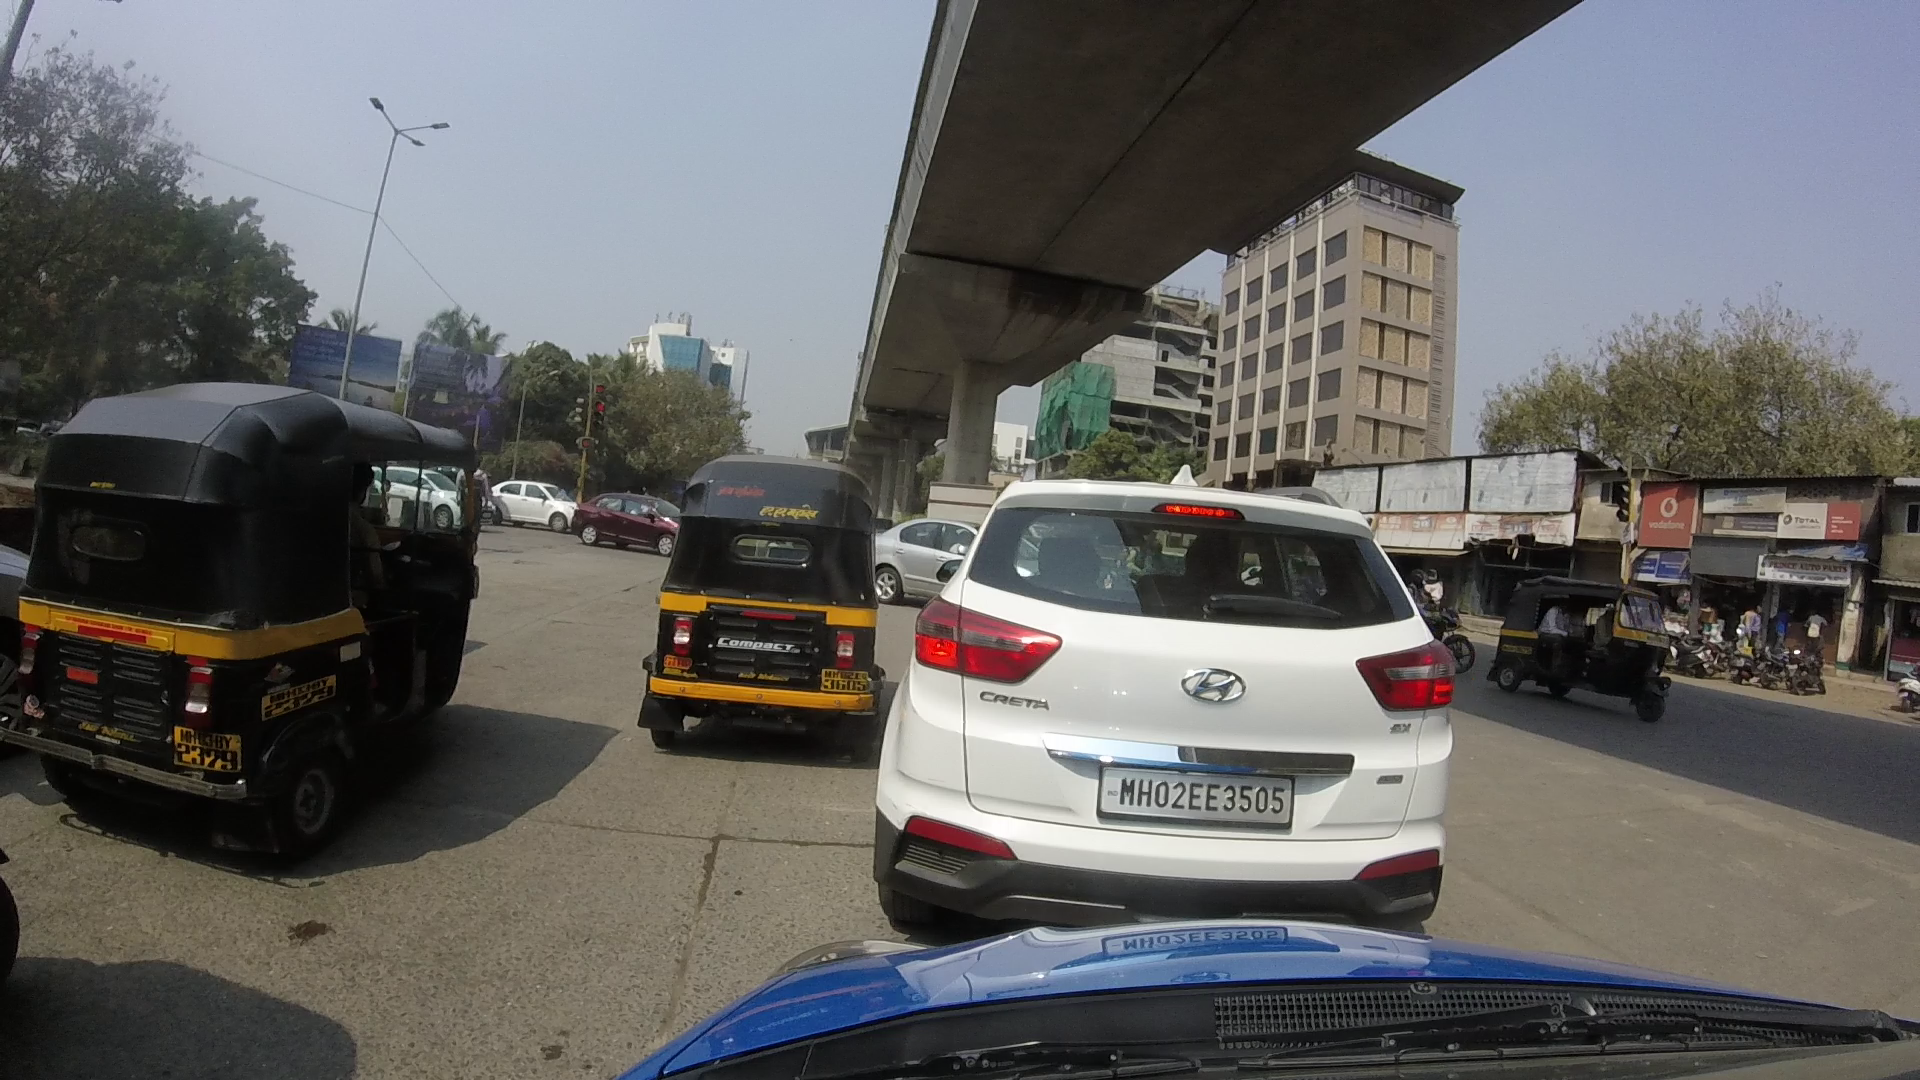bus: (899, 472, 1462, 942)
car: (878, 524, 975, 613), (491, 469, 582, 533), (587, 487, 680, 542)
rickshaw: (44, 369, 508, 857), (644, 458, 876, 736), (1509, 568, 1669, 713)
